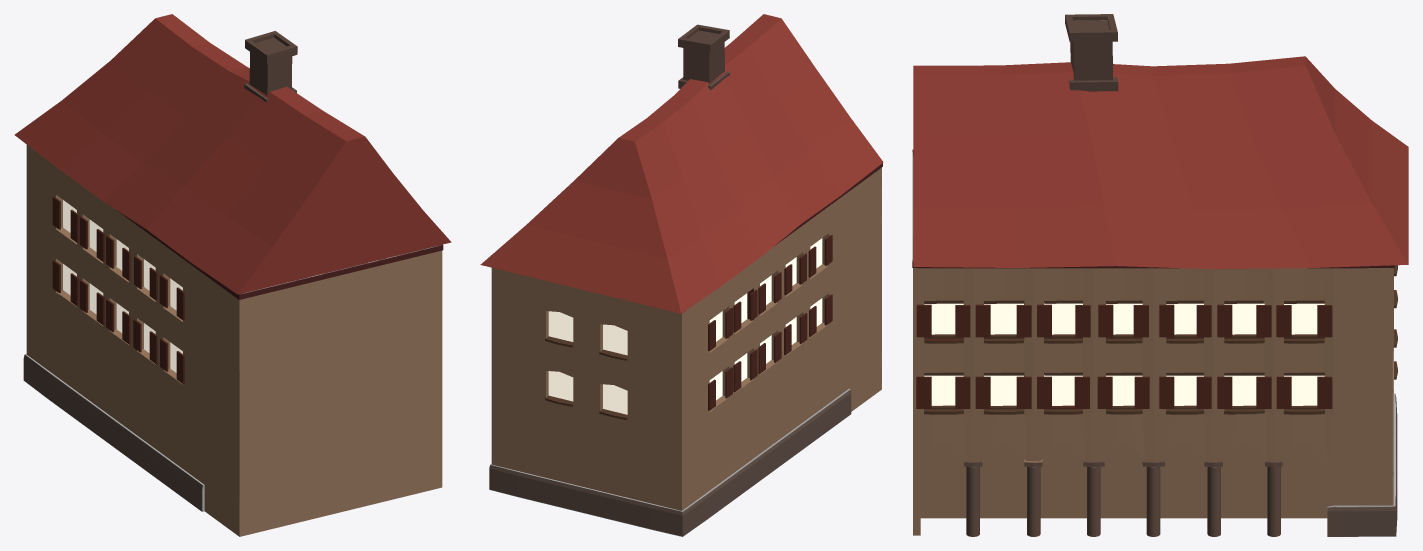
The model's file is GameProject3_AltesRathaus_Variante2.2.fbx.
The picture shows the model from 3 angles, left to right: view 1: azimuth 30°, elevation 25°; view 2: azimuth 150°, elevation 25°; view 3: azimuth 270°, elevation 25°; orthographic projection. The views are drawn at different scales.
Parts seen in each view (by area): view 1: Altes Rathaus Variante 2.2; view 2: Altes Rathaus Variante 2.2; view 3: Altes Rathaus Variante 2.2.
Part boxes in pixels (<box>): Altes Rathaus Variante 2.2: <box>14,14,451,536</box>; Altes Rathaus Variante 2.2: <box>480,14,883,536</box>; Altes Rathaus Variante 2.2: <box>912,14,1408,536</box>.
Size of the model in its own units: 1088 by 1952 by 1901.
1 material, 1 textured.
